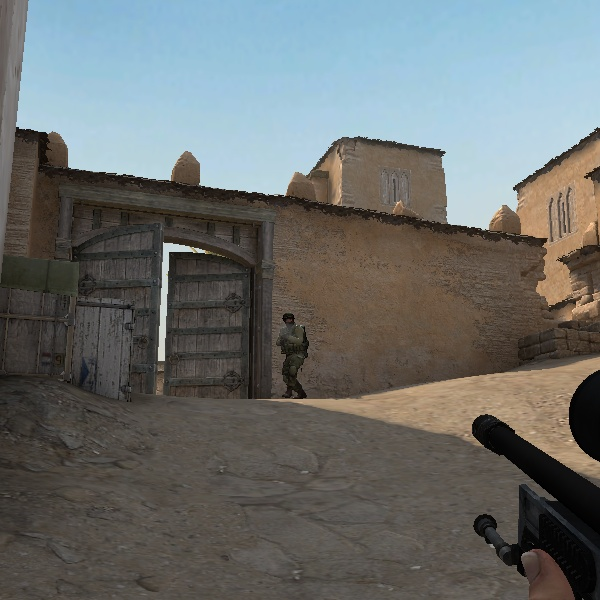ct_body: (276, 308, 314, 400)
ct_head: (279, 310, 300, 330)
